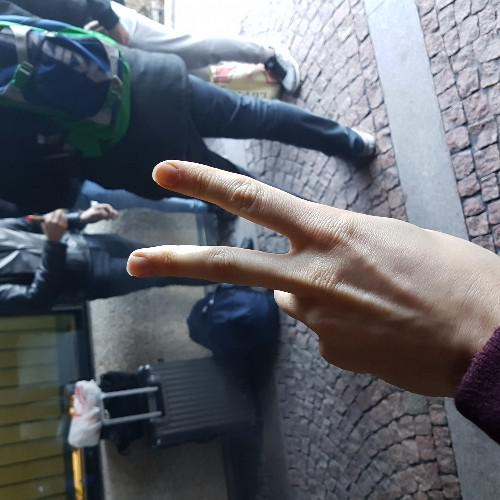scissors: (120, 144, 469, 378)
